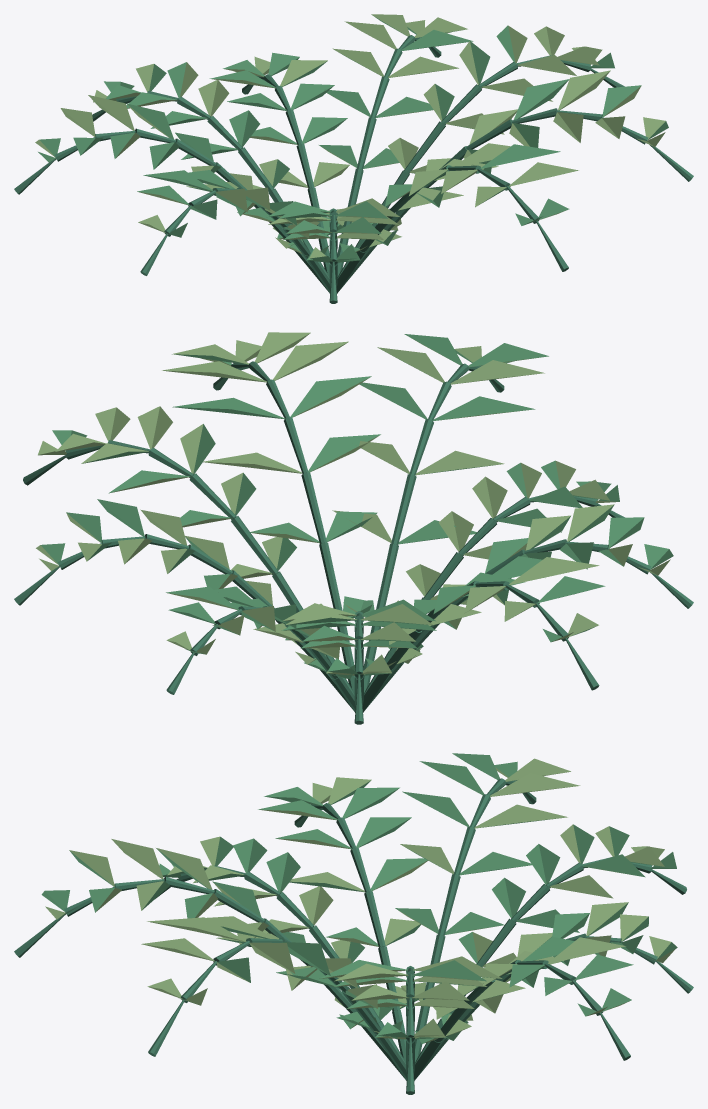
The model's file is forest_fern.glb.
3 views of the same model, one above another, from view 1: azimuth 30°, elevation 25°; view 2: azimuth 150°, elevation 25°; view 3: azimuth 270°, elevation 25° (orthographic). The views are drawn at different scales.
Visible parts, largest first — view 1: forest_fern; view 2: forest_fern; view 3: forest_fern.
Boxes of the visible parts, <box> form: forest_fern: <box>14,14,693,303</box>; forest_fern: <box>14,332,693,724</box>; forest_fern: <box>14,753,693,1094</box>.
Bounding box in the file's own units: 1.85 × 0.6737 × 1.76.
